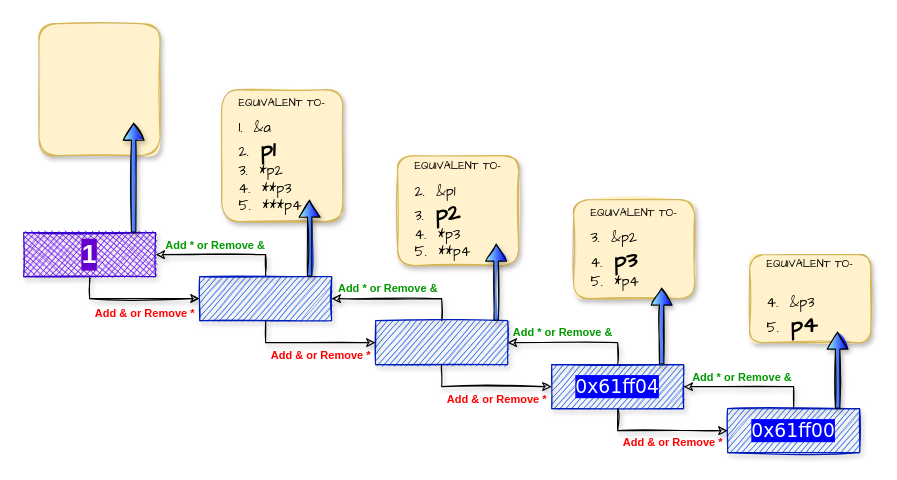
The diagram is 897 pixels wide and 480 high, and some of its shapes have lost their labels. The shapes that lost their labels are listed below. From the top down, each one's centre as x and y in pixels, then its label:
At point (100, 90): "EQUIVALENT TO- 1. a 2. *p1 3. **p2 4. ***p3 5. ****p4".
At point (266, 299): "0x61ff0c".
At point (442, 343): "0x61ff08".
